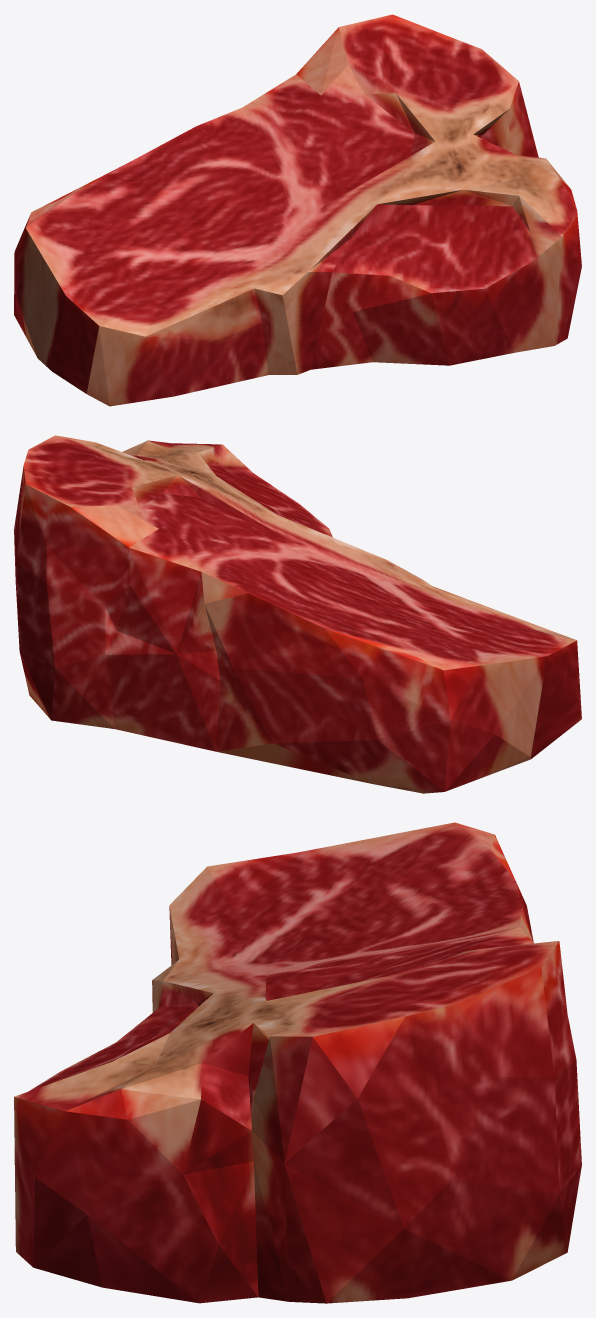
File: meat.glb
3 views of the same model, one above another, from view 1: azimuth 30°, elevation 25°; view 2: azimuth 150°, elevation 25°; view 3: azimuth 270°, elevation 25° (orthographic). The views are drawn at different scales.
Visible parts, largest first — view 1: geometry_0.004; view 2: geometry_0.004; view 3: geometry_0.004.
Part boxes in pixels (x1=…): geometry_0.004: x1=14, y1=14, x2=581, y2=406; geometry_0.004: x1=14, y1=435, x2=581, y2=793; geometry_0.004: x1=14, y1=822, x2=581, y2=1303.
Bounding box in the file's own units: 0.1992 × 0.0843 × 0.1381.
1 material, 1 textured.
